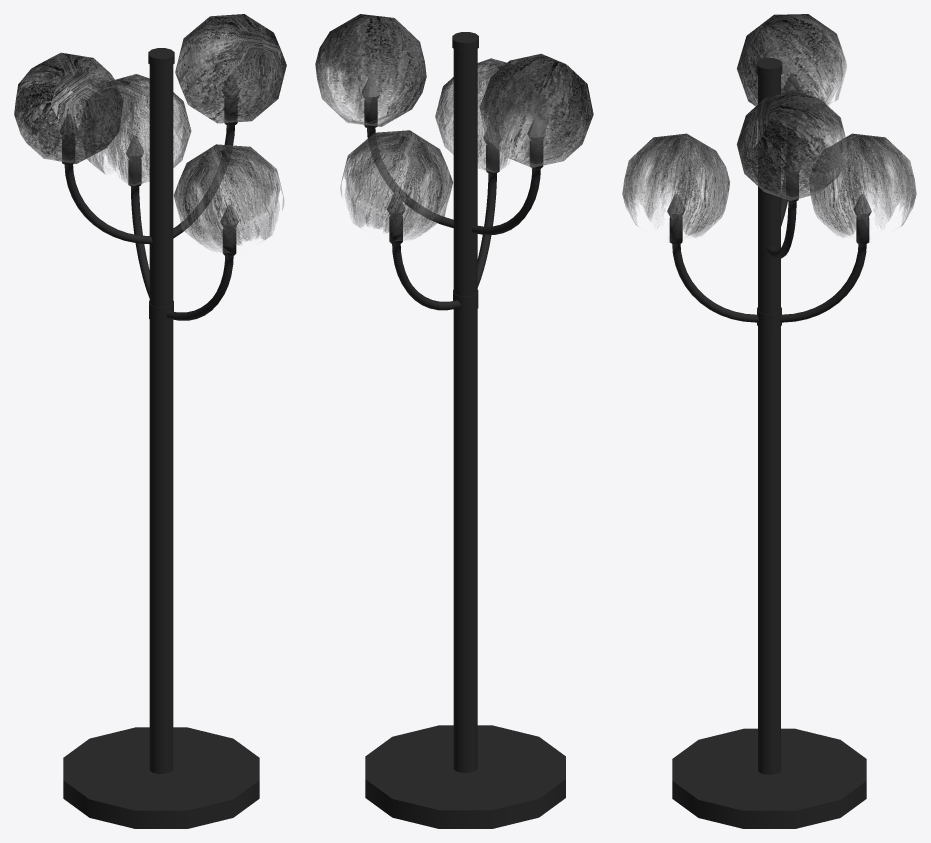
Rendered from lamp.glb.
The picture shows the model from 3 angles, left to right: view 1: azimuth 30°, elevation 25°; view 2: azimuth 150°, elevation 25°; view 3: azimuth 270°, elevation 25°; orthographic projection. The views are drawn at different scales.
Parts seen in each view (by area): view 1: Lamp; view 2: Lamp; view 3: Lamp.
Part boxes in pixels (x1,y1,x2,y2): Lamp: (14, 14, 286, 828); Lamp: (315, 14, 593, 828); Lamp: (622, 14, 916, 828).
Bounding box in the file's own units: 0.3655 × 1.01 × 0.3675.
3 materials, 1 textured.
